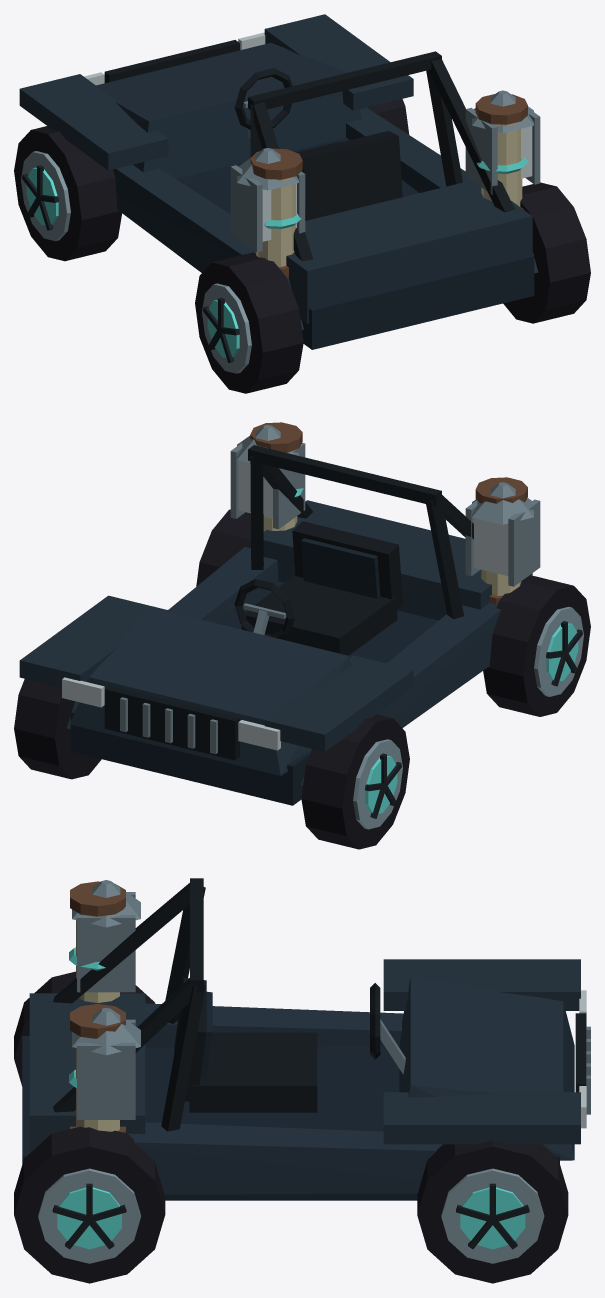
File: kart.glb
The picture shows the model from 3 angles, top to bottom: view 1: azimuth 30°, elevation 25°; view 2: azimuth 150°, elevation 25°; view 3: azimuth 270°, elevation 25°; orthographic projection. The views are drawn at different scales.
Visible parts, largest first — view 1: identity-jeep-jeep-offroad-frame, wheel-rear-left, wheel-front-left, identity-jeep-driver-cockpit, identity-jeep-motif-lanterns, wheel-rear-right, identity-jeep-motif-scrolls, wheel-front-right; view 2: identity-jeep-jeep-offroad-frame, identity-jeep-driver-cockpit, wheel-rear-left, wheel-front-left, identity-jeep-motif-lanterns, wheel-front-right, identity-jeep-motif-scrolls, wheel-rear-right; view 3: identity-jeep-jeep-offroad-frame, wheel-rear-right, wheel-front-right, identity-jeep-driver-cockpit, identity-jeep-motif-lanterns, identity-jeep-motif-scrolls, wheel-rear-left.
Part boxes in pixels (bbox=[...]): identity-jeep-jeep-offroad-frame: bbox=[19, 14, 538, 349]; wheel-rear-left: bbox=[195, 252, 303, 393]; wheel-front-left: bbox=[14, 126, 121, 261]; identity-jeep-driver-cockpit: bbox=[234, 68, 402, 220]; identity-jeep-motif-lanterns: bbox=[230, 90, 540, 252]; wheel-rear-right: bbox=[503, 182, 590, 323]; identity-jeep-motif-scrolls: bbox=[250, 94, 528, 277]; wheel-front-right: bbox=[367, 99, 409, 134]; identity-jeep-jeep-offroad-frame: bbox=[19, 445, 532, 805]; identity-jeep-driver-cockpit: bbox=[234, 521, 402, 655]; wheel-rear-left: bbox=[483, 576, 590, 716]; wheel-front-left: bbox=[301, 714, 409, 849]; identity-jeep-motif-lanterns: bbox=[230, 425, 540, 586]; wheel-front-right: bbox=[14, 679, 101, 779]; identity-jeep-motif-scrolls: bbox=[250, 422, 527, 604]; wheel-rear-right: bbox=[196, 509, 250, 586]; identity-jeep-jeep-offroad-frame: bbox=[22, 878, 590, 1200]; wheel-rear-right: bbox=[14, 1126, 165, 1283]; wheel-front-right: bbox=[417, 1140, 568, 1283]; identity-jeep-driver-cockpit: bbox=[174, 978, 405, 1112]; identity-jeep-motif-lanterns: bbox=[72, 880, 140, 1119]; identity-jeep-motif-scrolls: bbox=[69, 881, 125, 1132]; wheel-rear-left: bbox=[14, 971, 155, 1086].
Size of the model in its own units: 2.13 by 1.39 by 2.75.
